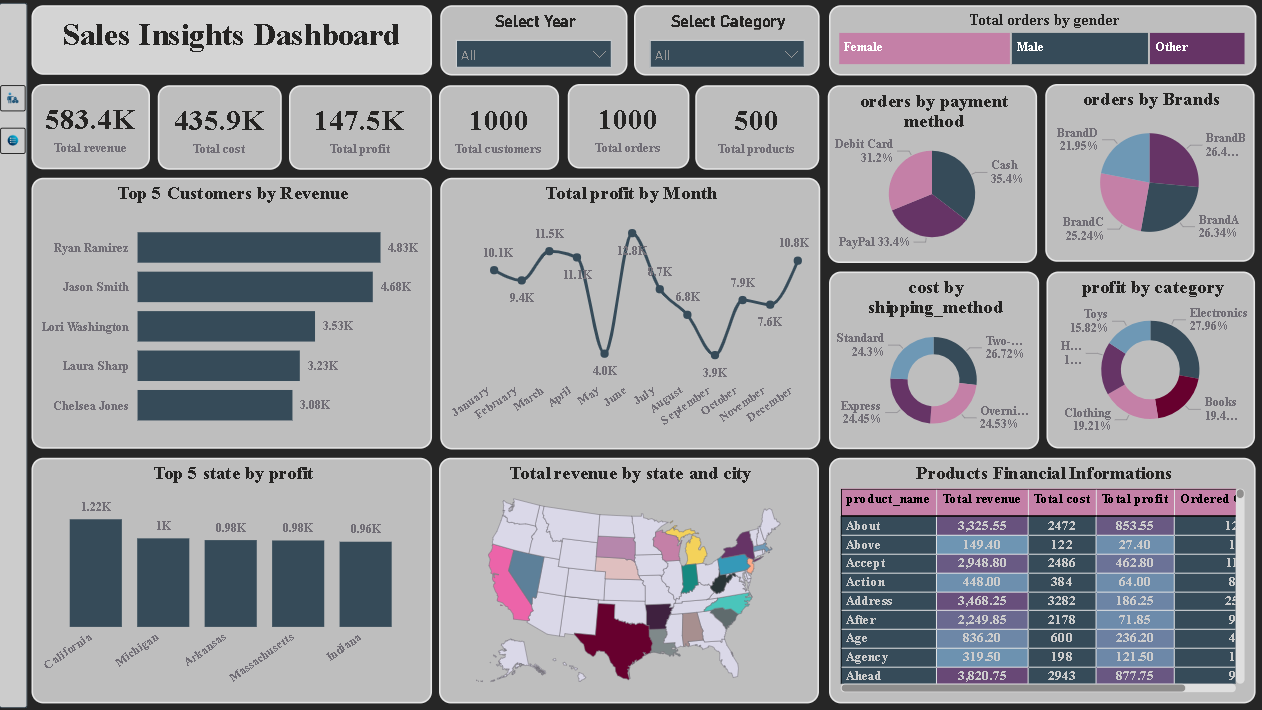

The dashboard page shown, as its layout file describes it:
{"tool":"powerbi","page":{"name":"Sales_Insights_Dashboard","canvas":[1280,720],"ordinal":0},"visuals":[{"type":"columnChart","title":"Top 5 state by profit","fields":{"Category":["customers_data.state"],"Y":["Measure Table.Total profit"]},"box":[33.3,464.4,405.6,248.9],"z":0},{"type":"card","fields":{"Values":["Measure Table.Total orders"]},"box":[575.6,86.7,123.3,85.6],"z":1000},{"type":"card","fields":{"Values":["Measure Table.Total customers"]},"box":[446.2,87.2,121.8,85.9],"z":2000},{"type":"card","fields":{"Values":["Measure Table.Total products"]},"box":[705.1,87.2,125.6,85.9],"z":3000},{"type":"card","fields":{"Values":["Measure Table.Total revenue"]},"box":[33.3,85.6,120,86.7],"z":4000},{"type":"card","fields":{"Values":["Measure Table.Total cost"]},"box":[160.3,87.2,125.6,85.9],"z":5000},{"type":"card","fields":{"Values":["Measure Table.Total profit"]},"box":[293.6,87.2,144.9,85.9],"z":6000},{"type":"pieChart","title":"orders by payment method","fields":{"Category":["orders_data.payment_method"],"Y":["CountNonNull(orders_data.order_id)"]},"box":[839.7,86.9,212.3,179.8],"z":7000},{"type":"lineChart","fields":{"Y":["Measure Table.Total profit"],"Category":["orders_data.order_date.Variation.Date Hierarchy.Month"]},"box":[446.4,181,384.9,275.1],"z":8000},{"type":"pieChart","title":"orders by Brands","fields":{"Y":["Measure Table.Total orders"],"Category":["products_data.brand"]},"box":[1060,86.7,212.2,180],"z":9000},{"type":"treemap","fields":{"Group":["customers_data.gender"],"Values":["Measure Table.Total orders"]},"box":[840,6.2,432.5,71.2],"z":10000},{"type":"donutChart","title":"profit by category","fields":{"Y":["Measure Table.Total profit"],"Category":["products_data.category"]},"box":[1060.3,275.6,211.5,179.5],"z":11000},{"type":"donutChart","title":"cost by shipping_method","fields":{"Category":["shipping_data.shipping_method"],"Y":["Sum(shipping_data.shipping_cost)"]},"box":[840,275.7,212.9,180],"z":12000},{"type":"clusteredBarChart","title":"Top 5 Customers by Revenue","fields":{"Category":["customers_data.Full_Name"],"Y":["Measure Table.Total revenue"]},"box":[33.3,181.1,405.6,274.4],"z":13000},{"type":"tableEx","title":"Products Financial Informations","fields":{"Values":["products_data.product_name","Measure Table.Total revenue","Measure Table.Total cost","Measure Table.Total profit","Sum(order_items_data.quantity)"]},"box":[840,464.4,432.2,248.9],"z":14000},{"type":"textbox","box":[33.3,6.7,405.6,70],"z":15000},{"type":"shapeMap","fields":{"Value":["Measure Table.Total revenue"],"Category":["customers_data.state"],"Series":["customers_data.city"]},"box":[446.2,464.1,384.6,248.7],"z":16000},{"type":"slicer","title":"Select Year","fields":{"Values":["orders_data.order_date.Variation.Date Hierarchy.Year"]},"box":[446.4,6,189.4,71.2],"z":17000},{"type":"slicer","title":"Select Category","fields":{"Values":["products_data.category"]},"box":[643,6,188.2,71.2],"z":18000},{"type":"shape","box":[0,3.3,28.9,714.4],"z":19000},{"type":"image","box":[1.3,130.4,25.3,26.6],"z":20000},{"type":"image","box":[1.3,87.3,25.3,26.6],"z":21000}]}

Visuals, with their boxes in screenshot pixels (x1, y1, x2, y2), scaled from the page's 1280x720 canvas onto the 1262x710 screenshot:
"Top 5 state by profit" columnChart: BBox(33, 458, 433, 703)
card - Measure Table.Total orders: BBox(568, 85, 689, 170)
card - Measure Table.Total customers: BBox(440, 86, 560, 171)
card - Measure Table.Total products: BBox(695, 86, 819, 171)
card - Measure Table.Total revenue: BBox(33, 84, 151, 170)
card - Measure Table.Total cost: BBox(158, 86, 282, 171)
card - Measure Table.Total profit: BBox(289, 86, 432, 171)
"orders by payment method" pieChart: BBox(828, 86, 1037, 263)
lineChart - Measure Table.Total profit x orders_data.order_date.Variation.Date Hierarchy.Month: BBox(440, 178, 820, 450)
"orders by Brands" pieChart: BBox(1045, 85, 1254, 263)
treemap - customers_data.gender x Measure Table.Total orders: BBox(828, 6, 1255, 76)
"profit by category" donutChart: BBox(1045, 272, 1254, 449)
"cost by shipping_method" donutChart: BBox(828, 272, 1038, 449)
"Top 5 Customers by Revenue" clusteredBarChart: BBox(33, 179, 433, 449)
"Products Financial Informations" tableEx: BBox(828, 458, 1254, 703)
textbox: BBox(33, 7, 433, 76)
shapeMap - Measure Table.Total revenue x customers_data.state: BBox(440, 458, 819, 703)
"Select Year" slicer: BBox(440, 6, 627, 76)
"Select Category" slicer: BBox(634, 6, 820, 76)
shape: BBox(0, 3, 28, 708)
image: BBox(1, 129, 26, 155)
image: BBox(1, 86, 26, 112)
